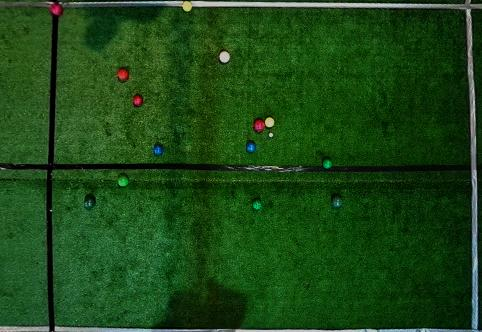blue: (153, 144, 164, 156), (246, 141, 256, 154)
green: (118, 174, 130, 187), (331, 196, 343, 208), (84, 198, 95, 210), (252, 199, 262, 210), (323, 159, 333, 169)
red: (50, 4, 63, 16), (118, 68, 129, 81), (254, 120, 265, 132), (219, 51, 230, 63), (133, 95, 143, 106)
vline: (1, 15, 59, 331), (462, 0, 481, 332)
white: (269, 132, 273, 137)
yellow: (182, 0, 192, 12), (265, 117, 275, 128)
